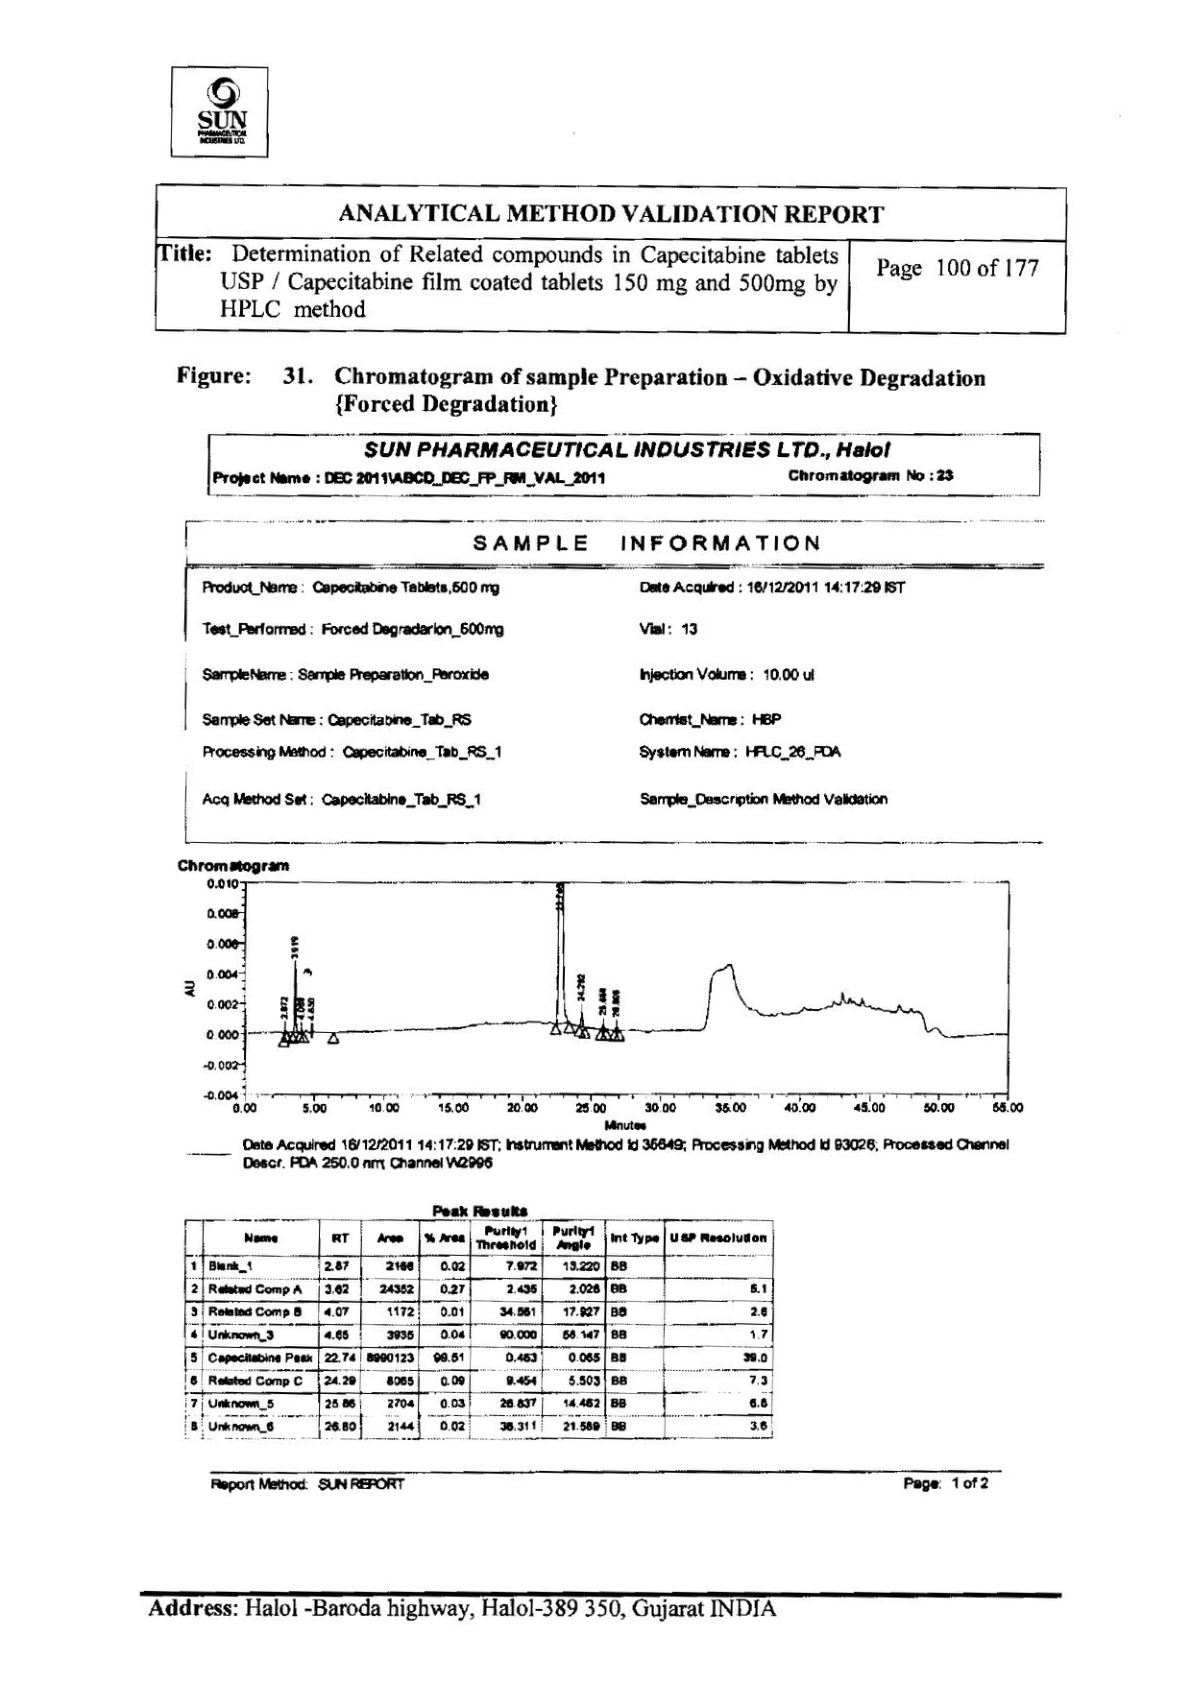full_lined: (182, 1218, 773, 1441)
merged_cells: (153, 182, 1069, 338)
partial_lined_merged_cells: (180, 518, 1047, 847)
